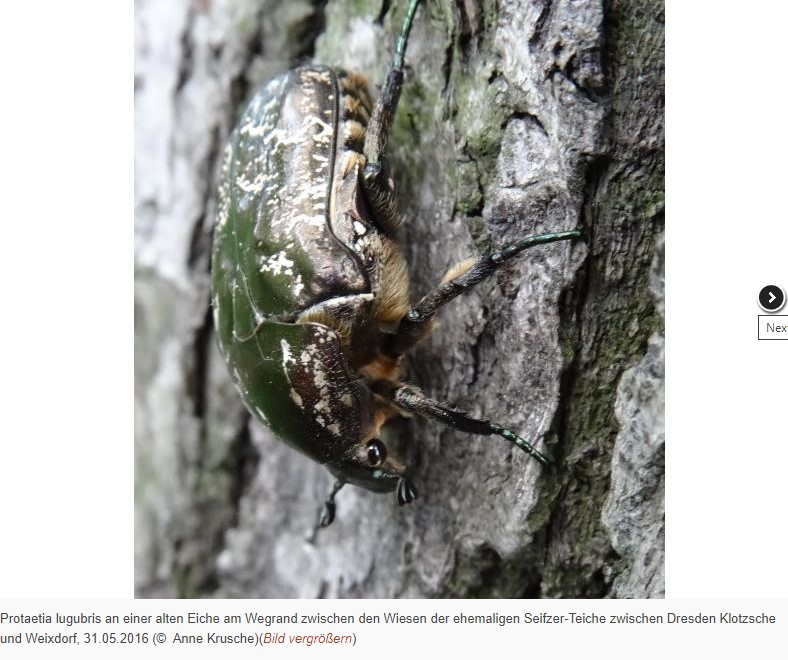Protaetia_lugubris: (200, 57, 596, 521)
